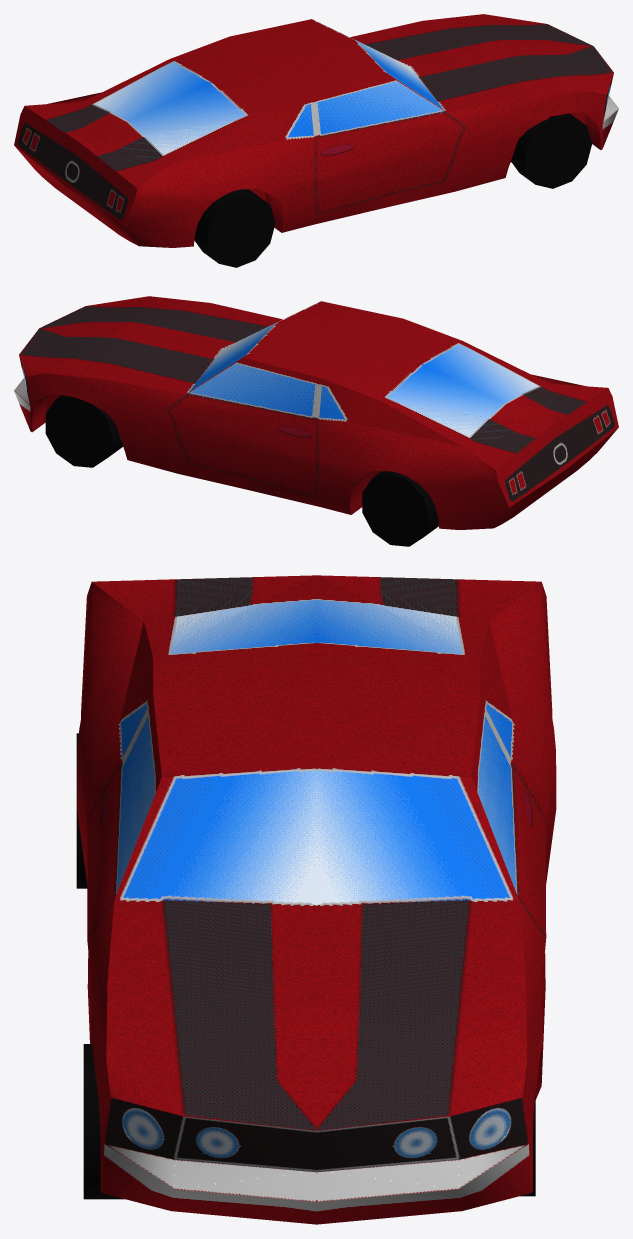
File: Auto_LowPoly.fbx
The picture shows the model from 3 angles, top to bottom: view 1: azimuth 30°, elevation 25°; view 2: azimuth 150°, elevation 25°; view 3: azimuth 270°, elevation 25°; orthographic projection. The views are drawn at different scales.
Parts seen in each view (by area): view 1: body, tire_BackRight, tire_FrontRight; view 2: body, tire_BackLeft, tire_FrontLeft; view 3: body, tire_FrontRight.
Boxes of the visible parts, x1=… form: body: x1=14, y1=14, x2=618, y2=247; tire_BackRight: x1=194, y1=189, x2=275, y2=267; tire_FrontRight: x1=511, y1=113, x2=591, y2=188; body: x1=14, y1=296, x2=618, y2=529; tire_BackLeft: x1=362, y1=471, x2=438, y2=546; tire_FrontLeft: x1=45, y1=395, x2=122, y2=467; body: x1=77, y1=575, x2=556, y2=1224; tire_FrontRight: x1=83, y1=1044, x2=124, y2=1199.
Size of the model in its own units: 888 by 225 by 349.
Materials: 2 (1 with a texture image).
